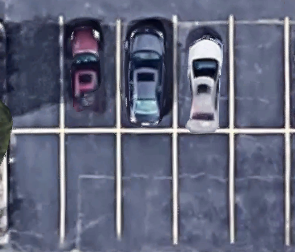Occupied: (174, 16, 232, 131), (118, 16, 175, 131), (61, 17, 119, 130)
Vacant: (118, 131, 176, 246), (231, 130, 288, 246), (5, 16, 62, 131), (5, 131, 62, 246), (231, 15, 288, 130), (175, 131, 232, 246), (63, 130, 118, 245)
